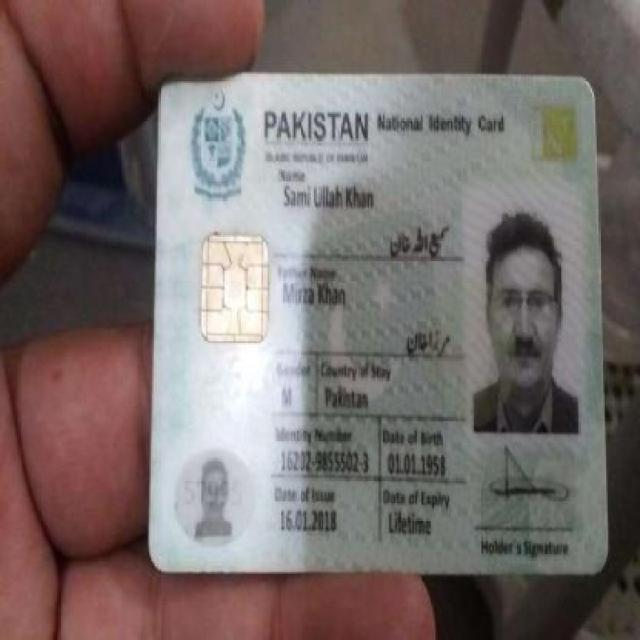Front: (140, 68, 617, 582)
